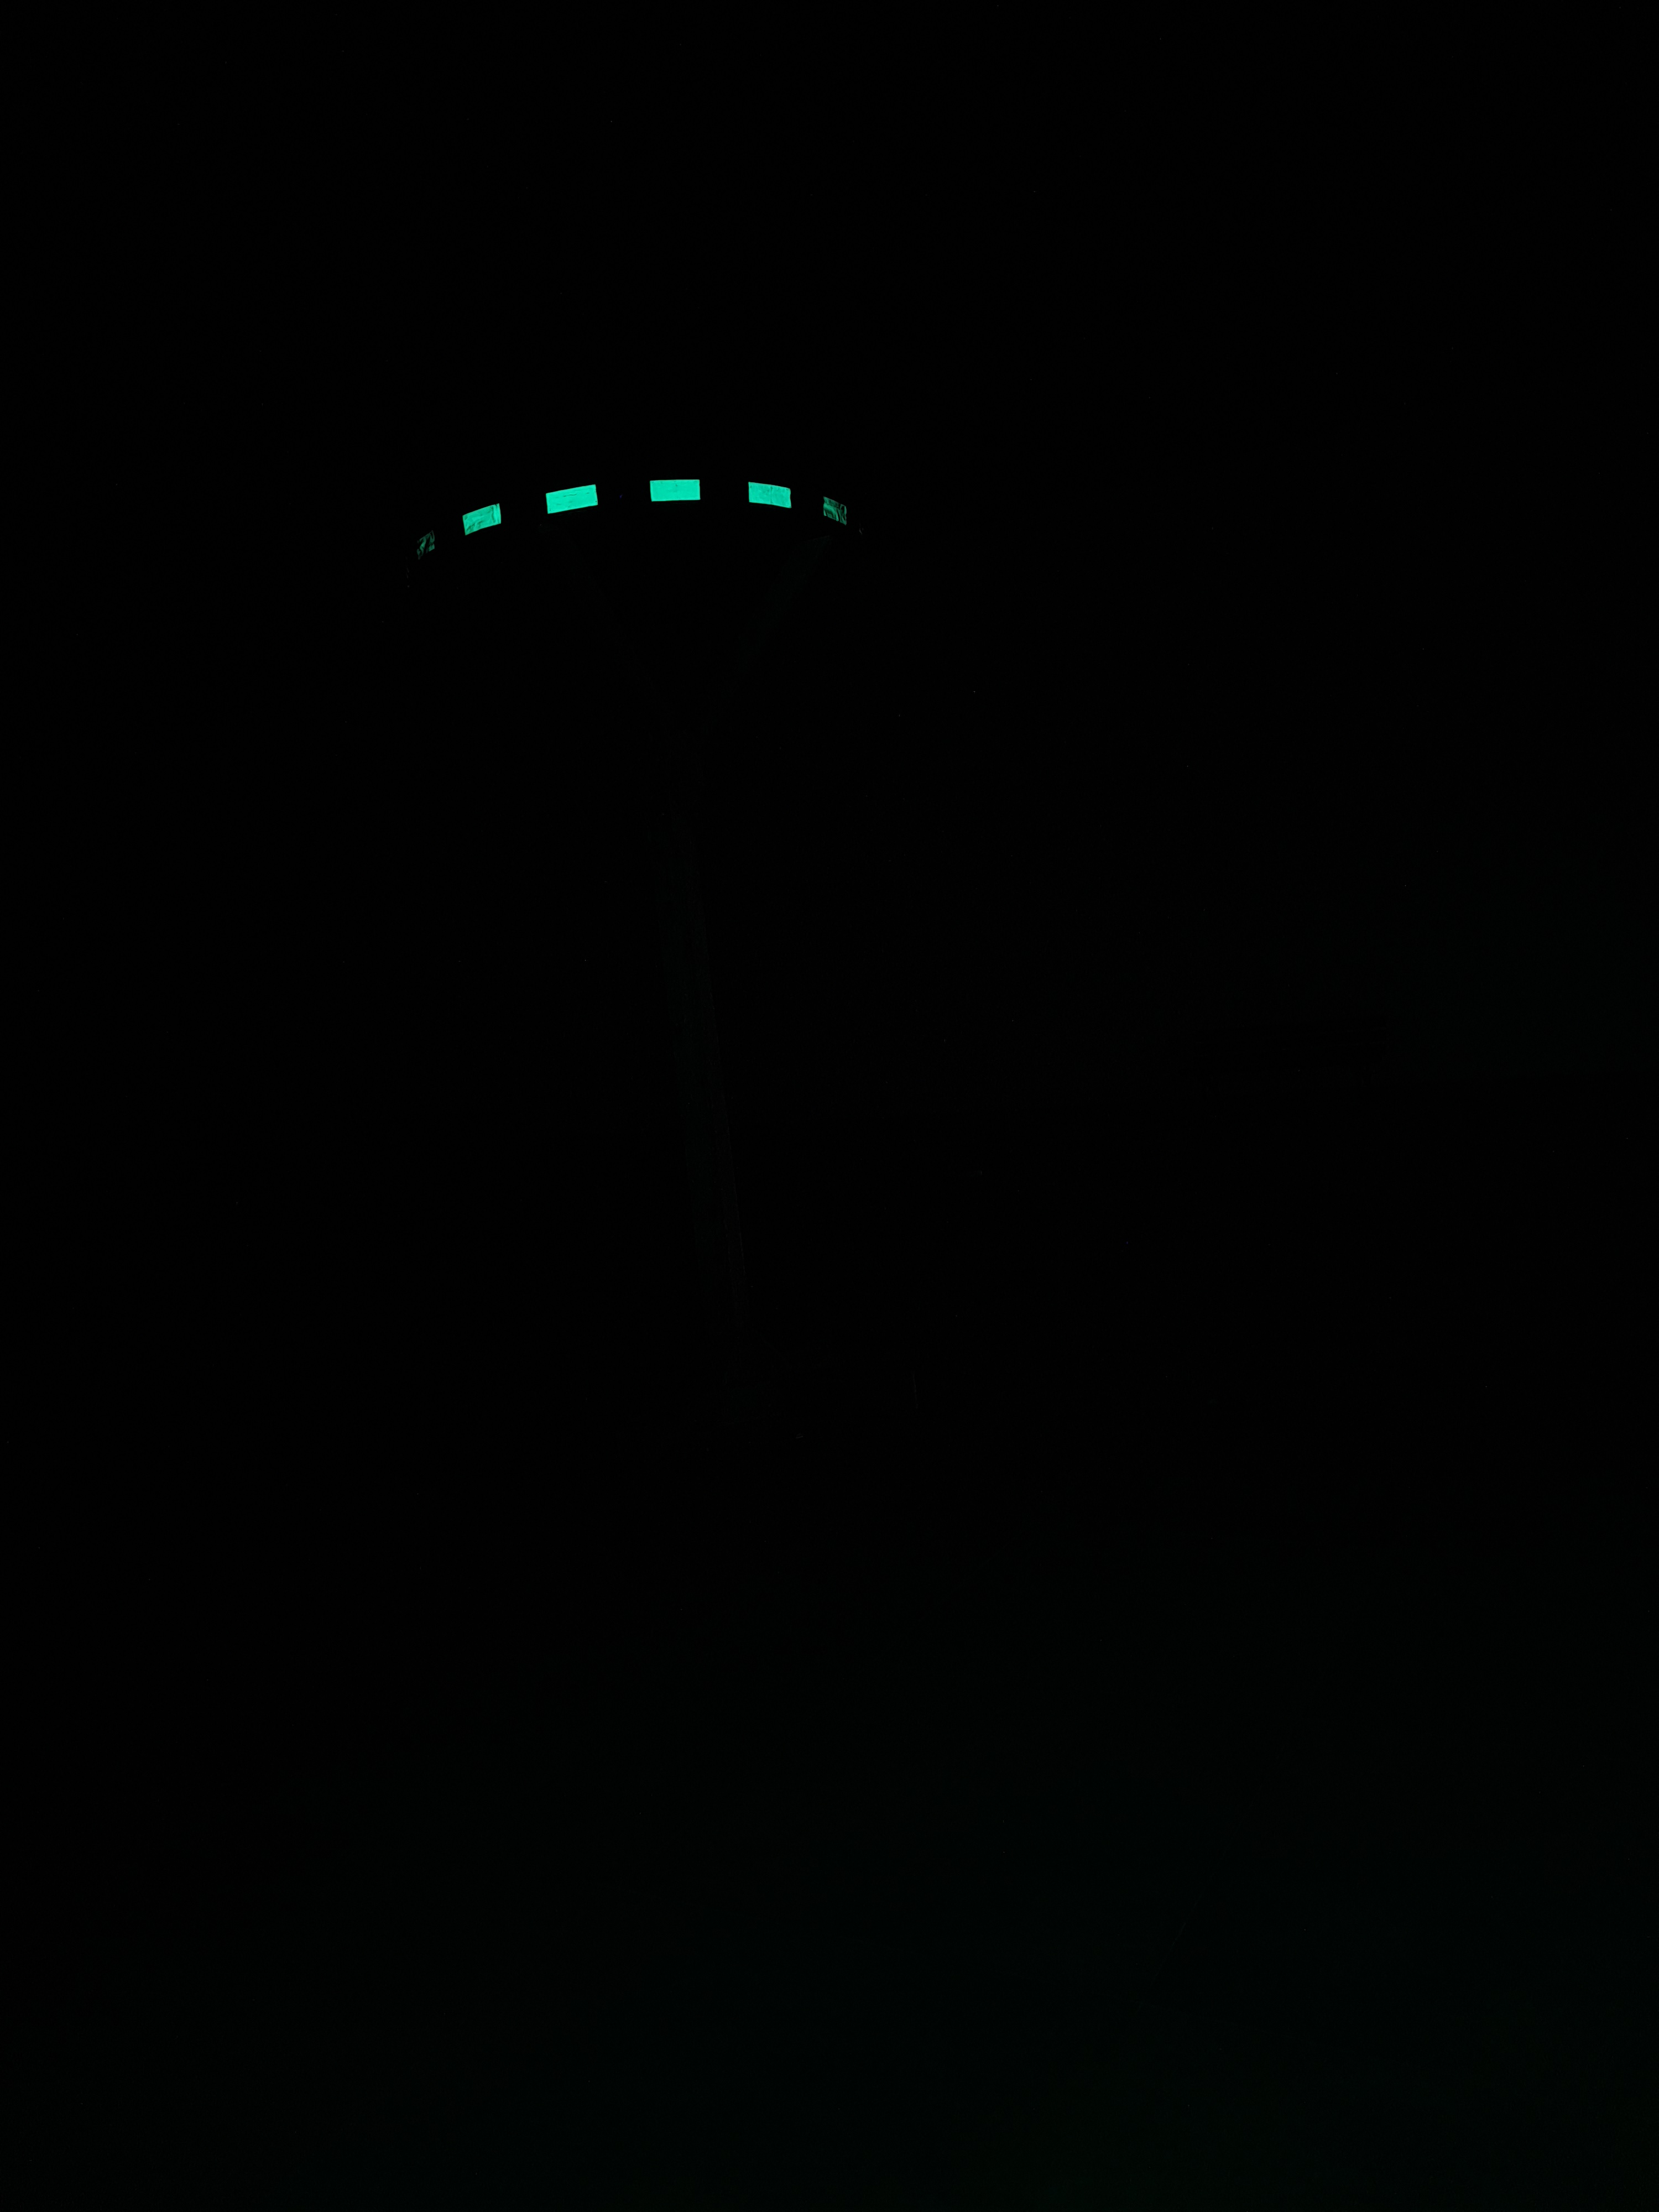hoop: (415, 475, 850, 559)
